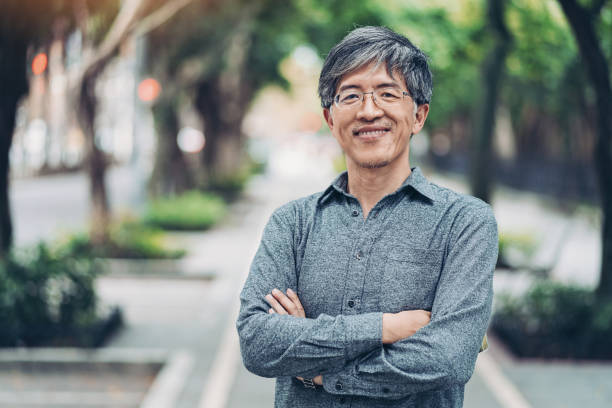person: (318, 24, 432, 176)
